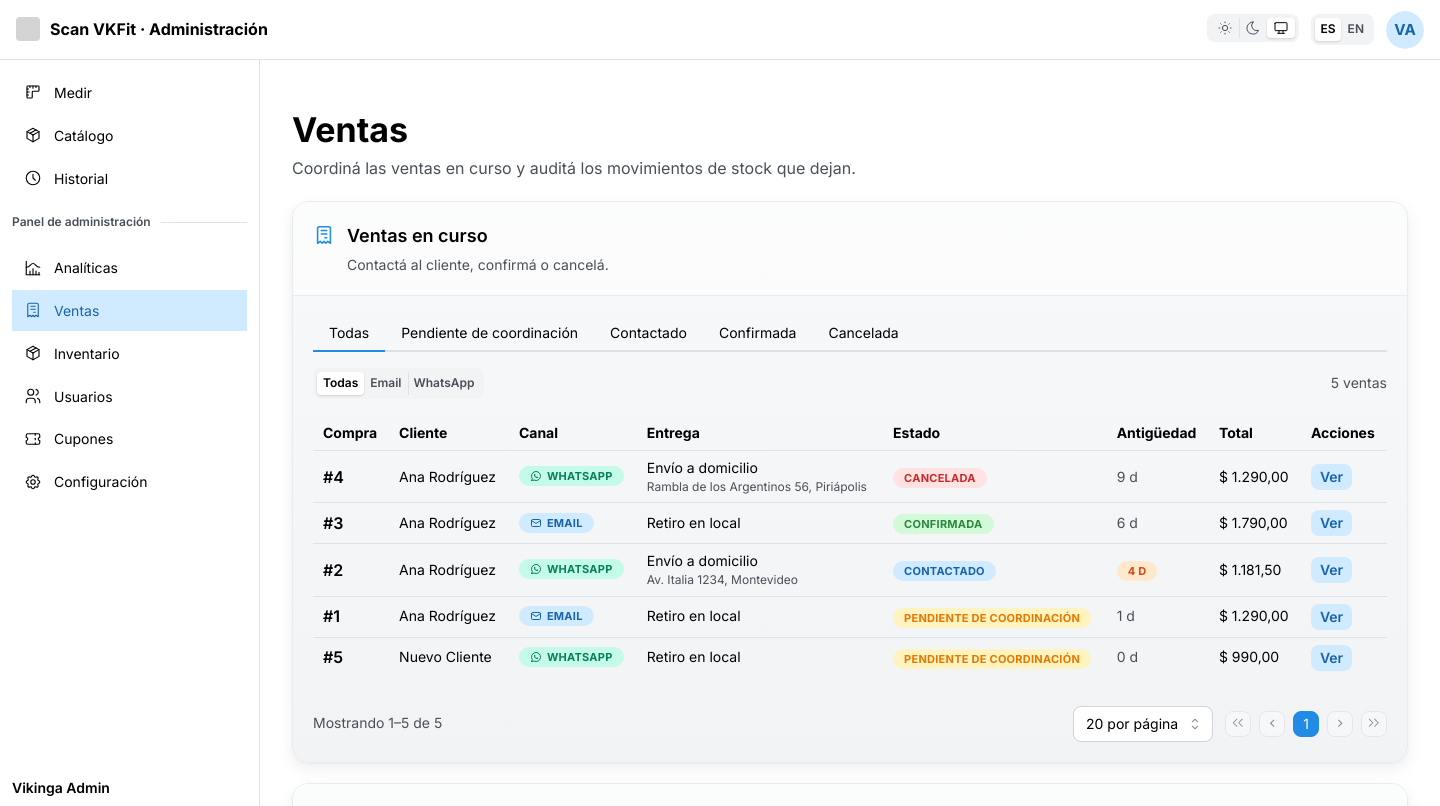
admin sales — listado › filtra por pestaña de estado y por canal
The width and height of the screenshot is (1440, 806).
Expected: the text "5 ventas" is shown, [1331,373,1387,394]
What coordinates should you click on to do the following:
click the tab "Cancelada"
I would click on:
 (864, 334)
Its box is [812,316,915,352].
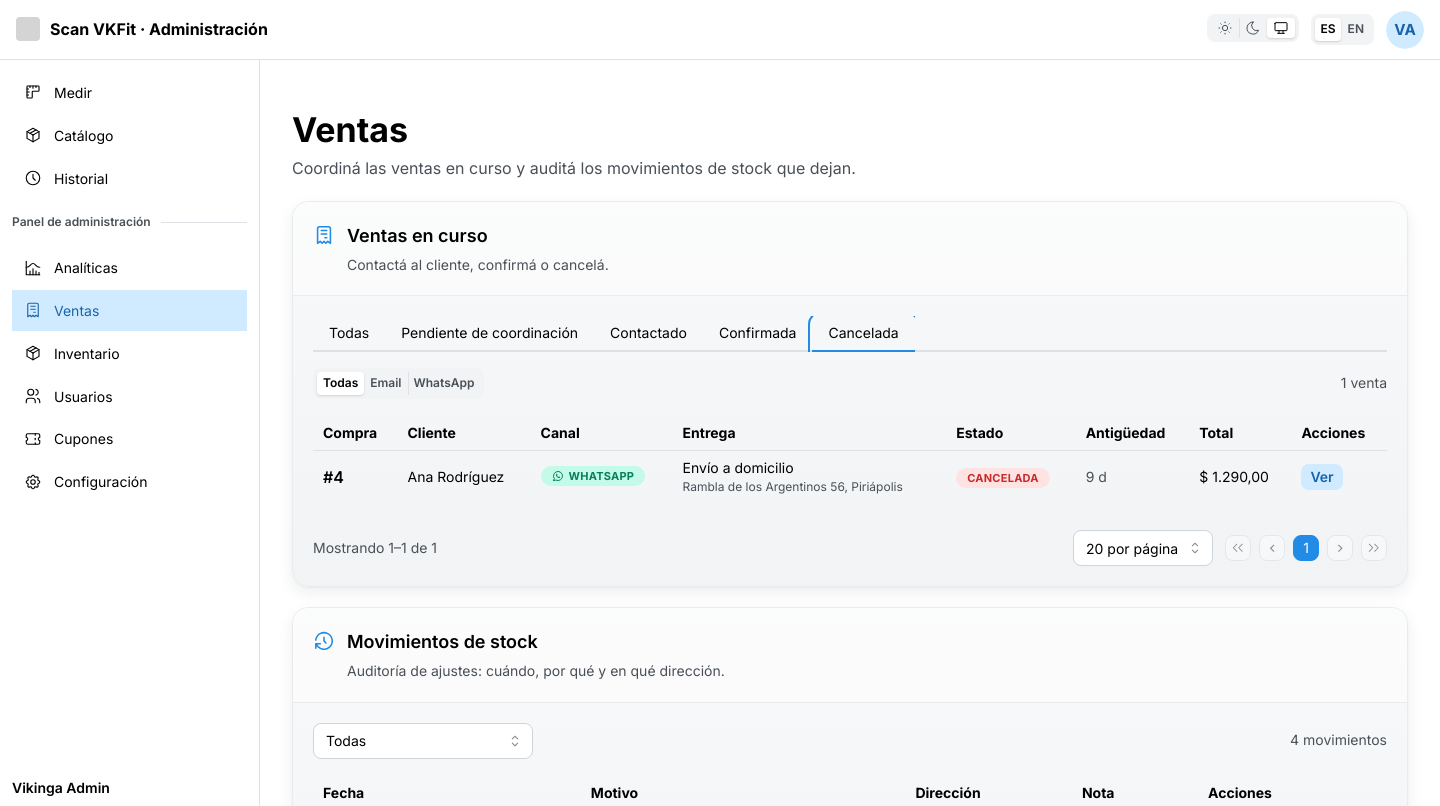
Expected: the text "#4" is shown, [323,466,344,486]
Now the text "1 venta" is shown, box [1341,373,1387,394]
What coordinates should you click on to do the following:
click the tab "Todas"
I would click on:
 (349, 334)
Its box is [313,316,385,352].
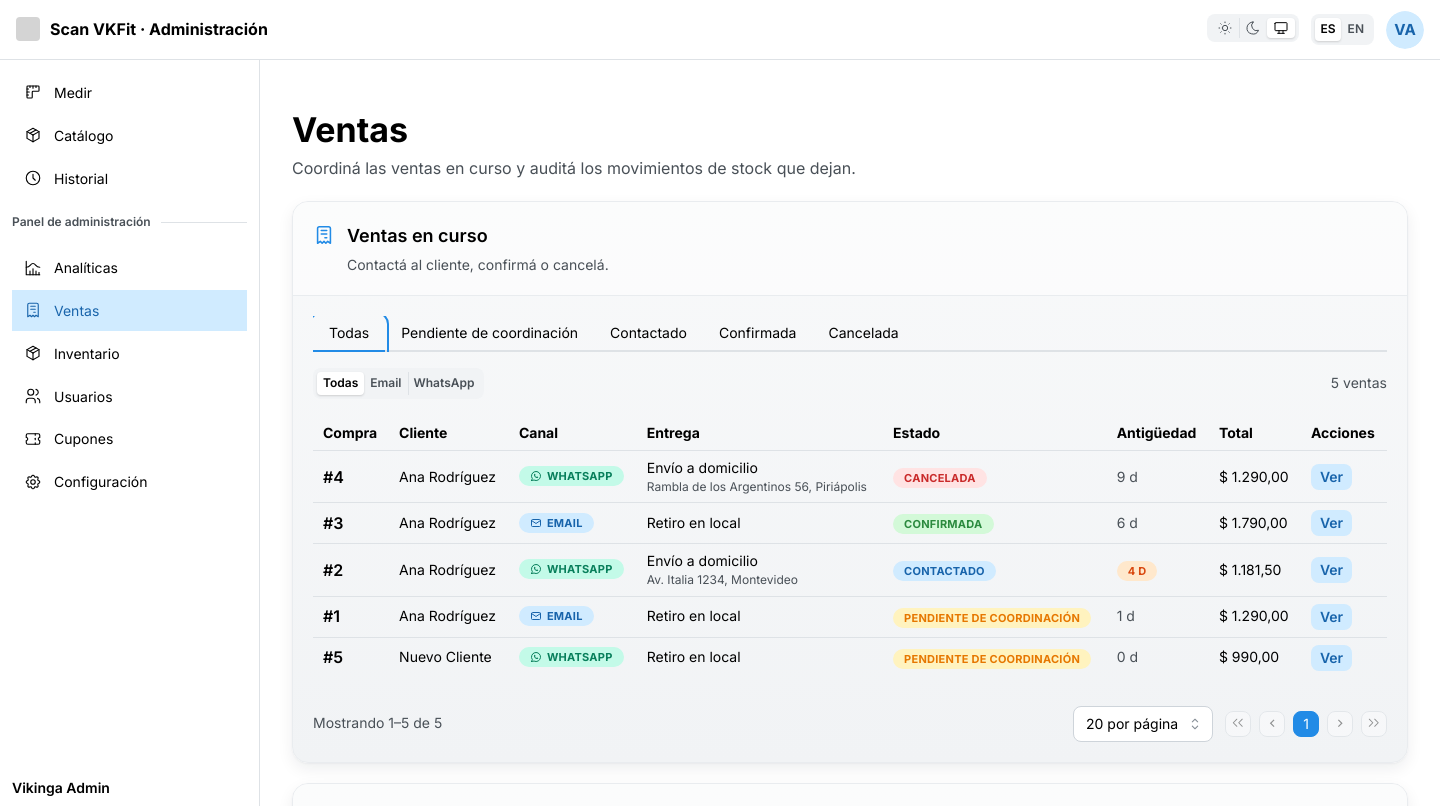
Now the text "5 ventas" is shown, box [1331,373,1387,394]
Por canal: tres ventas son de WhatsApp.
What coordinates should you click on to do the following:
click the 4th radio button labelled "WhatsApp"
I would click on:
 (444, 383)
Its box is [414,375,474,390].
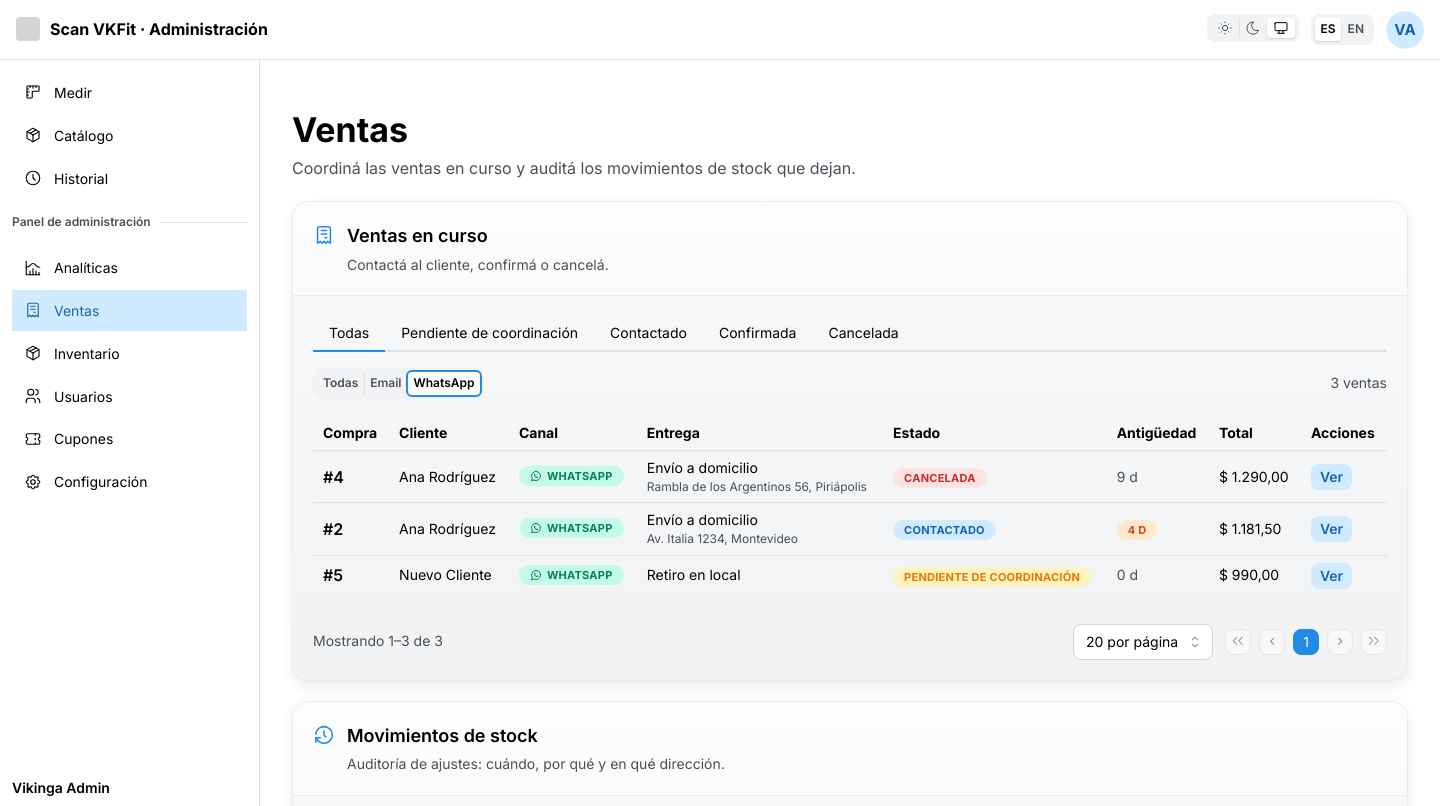
Now the text "3 ventas" is shown, box [1330,373,1387,394]
